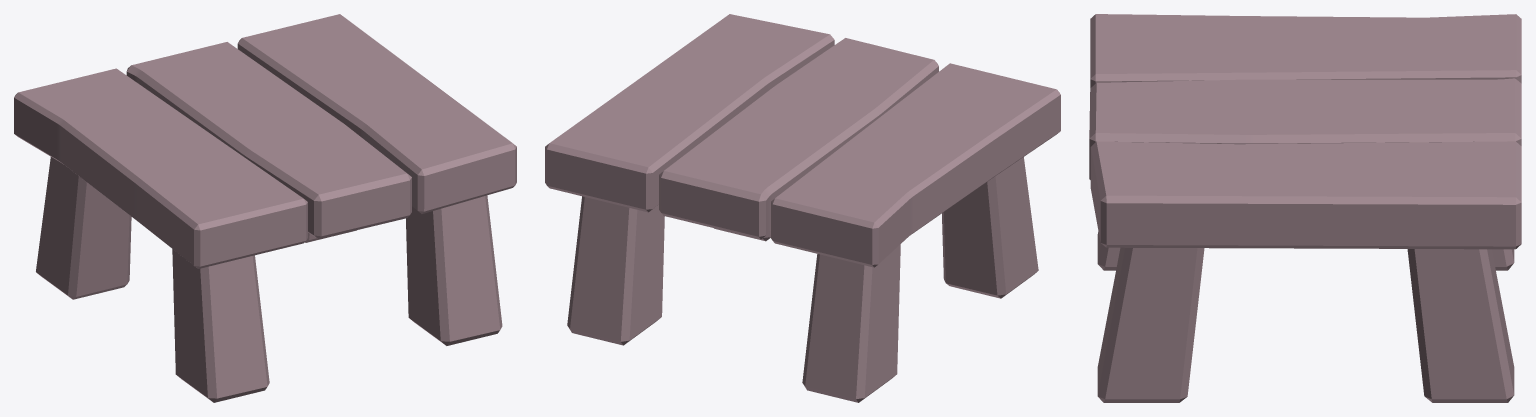
File: stool.fbx
3 views of the same model, side by side, from view 1: azimuth 30°, elevation 25°; view 2: azimuth 150°, elevation 25°; view 3: azimuth 270°, elevation 25° (orthographic). The views are drawn at different scales.
Visible parts, largest first — view 1: stool; view 2: stool; view 3: stool.
Part boxes in pixels (bbox=[...]): stool: bbox=[14, 14, 516, 402]; stool: bbox=[545, 14, 1060, 402]; stool: bbox=[1089, 14, 1521, 402].
Bounding box in the file's own units: 3.09 × 1.66 × 3.01.
